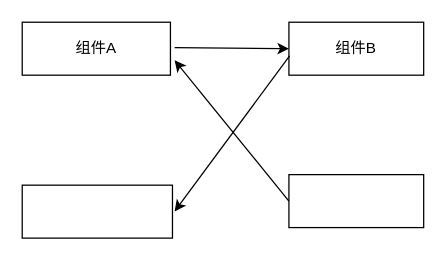
Image size: 447x260. Some labels were removed from this diagram. The shapes that lost their labels are listed below. From the top down, each one's box as (x1, y1, x2, y2) in pixels, then its label:
(21, 184, 172, 238): 组件C
(288, 173, 424, 228): 组件D
